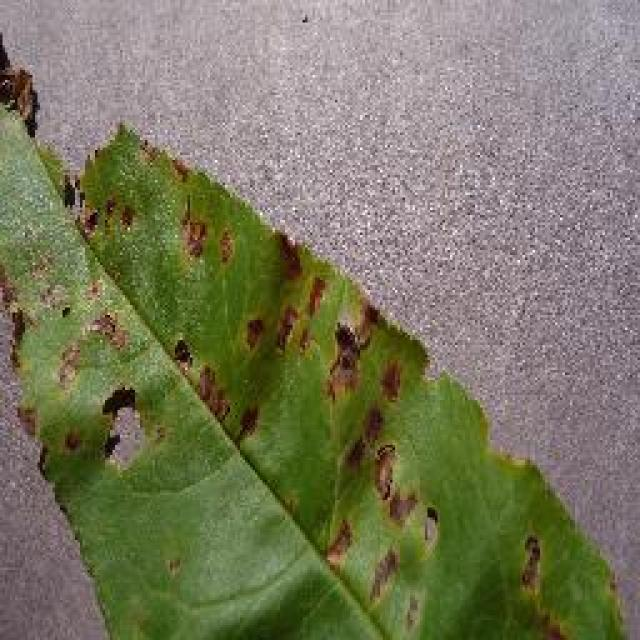Peach_Bacterial_Spot: (22, 49, 415, 558)
